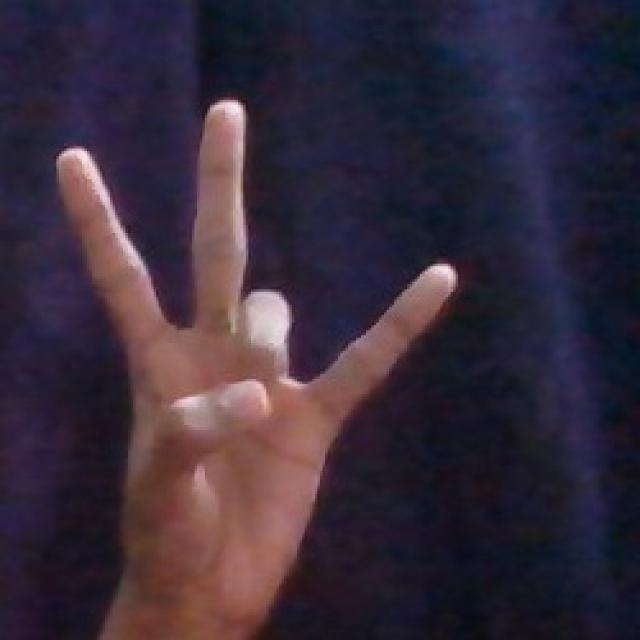Numeric-7: (52, 90, 468, 616)
